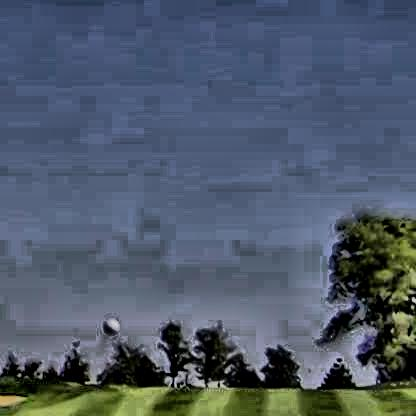golfball: (99, 314, 117, 333)
